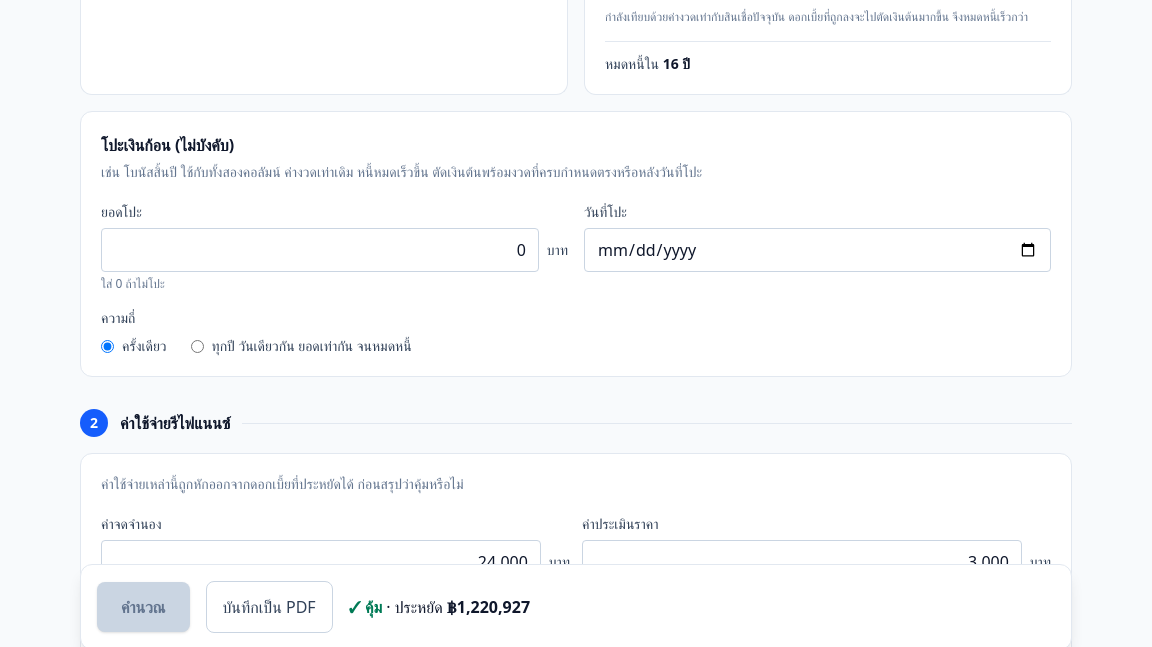
Test: App › lump sum › asks for a date once an amount is entered
This screenshot has width=1152, height=647.
(page scrolled)
Replace the text in the field labelled "ยอดโปะ บาท ใส่ 0 ถ้าไม่โปะ" with "100000" at point(320, 250), box [101,228,539,272]
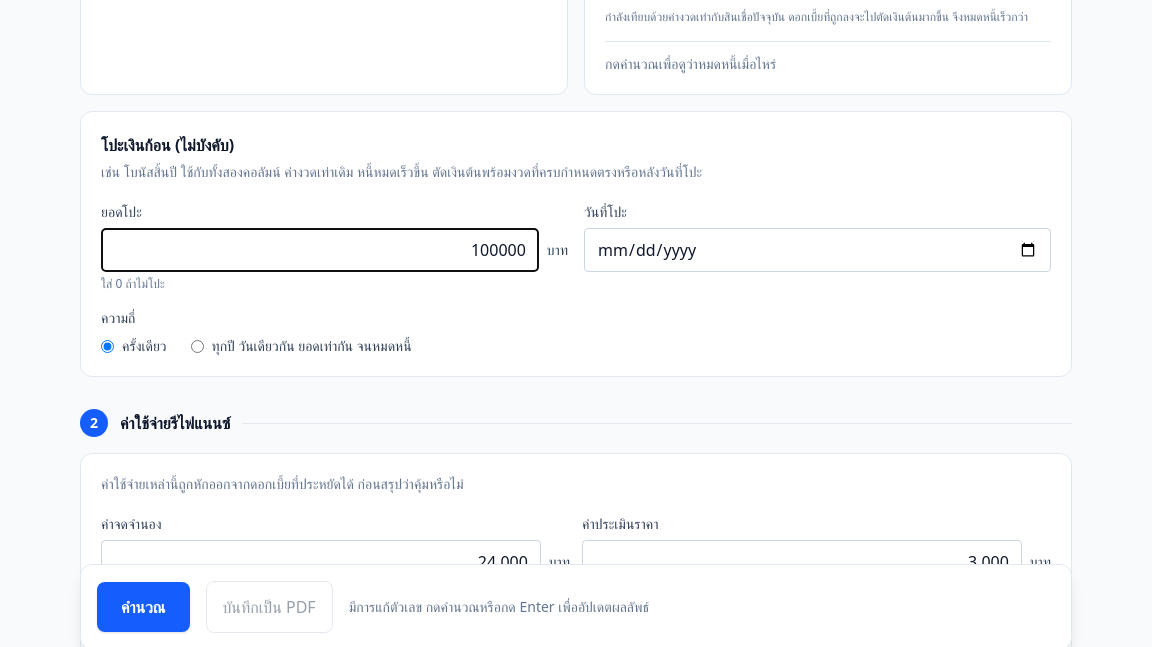
Clear the date field labelled "วันที่โปะ" at point(818, 250), box [584,228,1051,272]
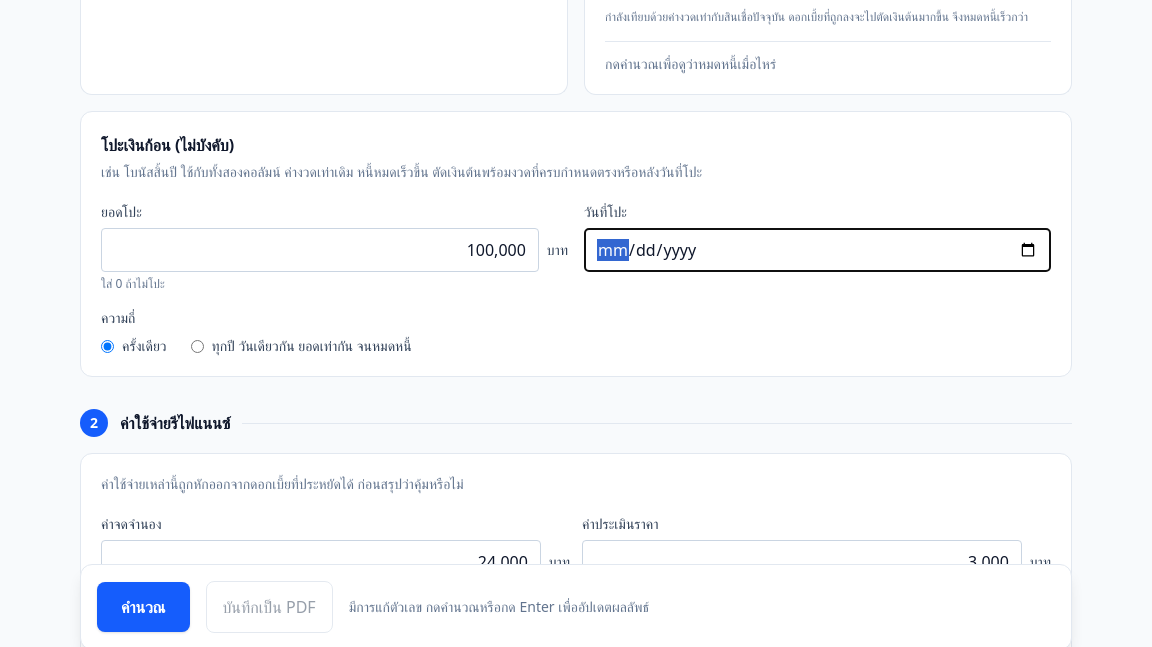
Click the button "คำนวณ".
click(143, 607)  # box [97,582,190,632]
(page scrolled)
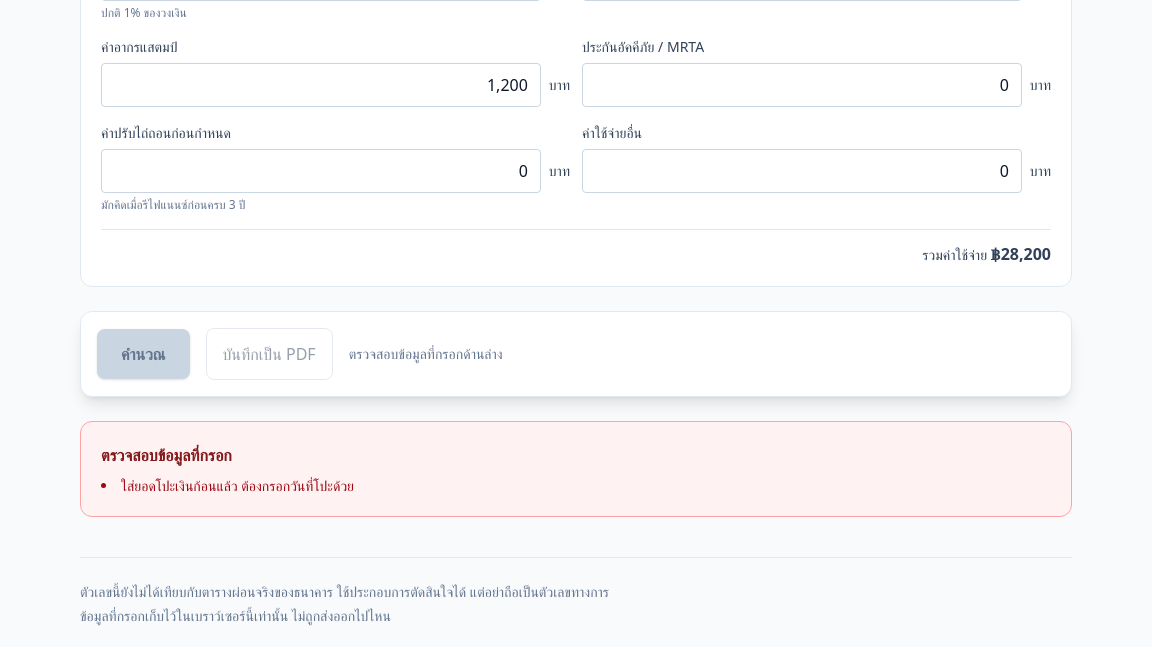
expect the list item "ใส่ยอดโปะเงินก้อนแล้ว ต้องกรอกวันที่โปะด้วย" is shown: met, box [121,476,354,495]
